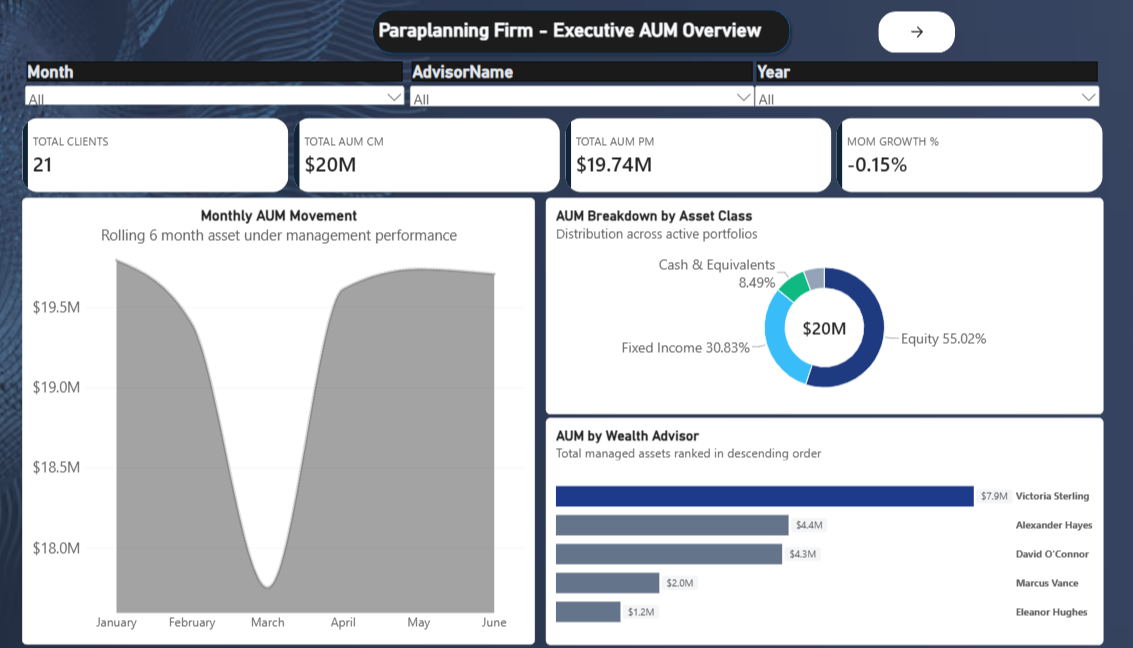

Layout of this report page (visuals, bound fields, positions):
{"tool":"powerbi","page":{"name":"Page 1","canvas":[1920,1080],"ordinal":0},"visuals":[{"type":"shape","box":[642.4,12.6,705.6,91],"z":0},{"type":"textbox","title":"Paraplanning Firm - Executive AUM Overview","box":[624.7,37.9,705.6,86],"z":1000},{"type":"slicer","fields":{"Values":["dim_date.Year"]},"box":[1277.2,106.2,576.6,73.3],"z":2000},{"type":"slicer","fields":{"Values":["dim_date.Month"]},"box":[73.3,106.2,634.8,70.8],"z":3000},{"type":"slicer","fields":{"Values":["dim_advisor.AdvisorName"]},"box":[708.1,106.2,576.6,73.3],"z":4000},{"type":"cardVisual","fields":{"Data":["dax.total_clients","dax.Total AUM","dax.Total AUM PM","dax.mom growth %"]},"box":[74.1,199.7,1780.5,123.5],"z":5000},{"type":"areaChart","title":"Monthly AUM Movement","fields":{"Category":["dim_date.MonthName"],"Y":["dax.Total AUM"]},"box":[73.3,331.3,844.7,735.9],"z":6000},{"type":"donutChart","title":"AUM Breakdown by Asset Class","fields":{"Category":["dim_assetclass.AssetClassName"],"Y":["dax.Total AUM"]},"box":[935.7,331.3,918,356.6],"z":7000},{"type":"clusteredBarChart","title":"AUM by Wealth Advisor","fields":{"Category":["dim_advisor.AdvisorName"],"Y":["dax.Total AUM"]},"box":[935.7,693,918,374.3],"z":8000},{"type":"actionButton","box":[1484.5,25.3,126.5,68.3],"z":8001}]}

Visuals, with their boxes in screenshot pixels (x1, y1, x2, y2), scaled from the page's 1920x1080 canvas onto the 1133x648 screenshot:
shape: (379,8,795,62)
"Paraplanning Firm - Executive AUM Overview" textbox: (369,23,785,74)
slicer - dim_date.Year: (754,64,1094,108)
slicer - dim_date.Month: (43,64,418,106)
slicer - dim_advisor.AdvisorName: (418,64,758,108)
cardVisual - dax.total_clients x dax.Total AUM: (44,120,1094,194)
"Monthly AUM Movement" areaChart: (43,199,542,640)
"AUM Breakdown by Asset Class" donutChart: (552,199,1094,413)
"AUM by Wealth Advisor" clusteredBarChart: (552,416,1094,640)
actionButton: (876,15,951,56)
